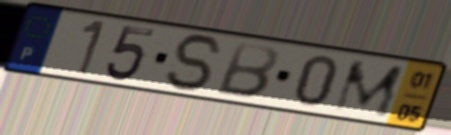0: (291, 54, 343, 108)
1: (76, 19, 108, 78)
5: (103, 23, 160, 82)
B: (211, 39, 280, 101)
M: (329, 59, 408, 120)
S: (164, 32, 228, 94)
